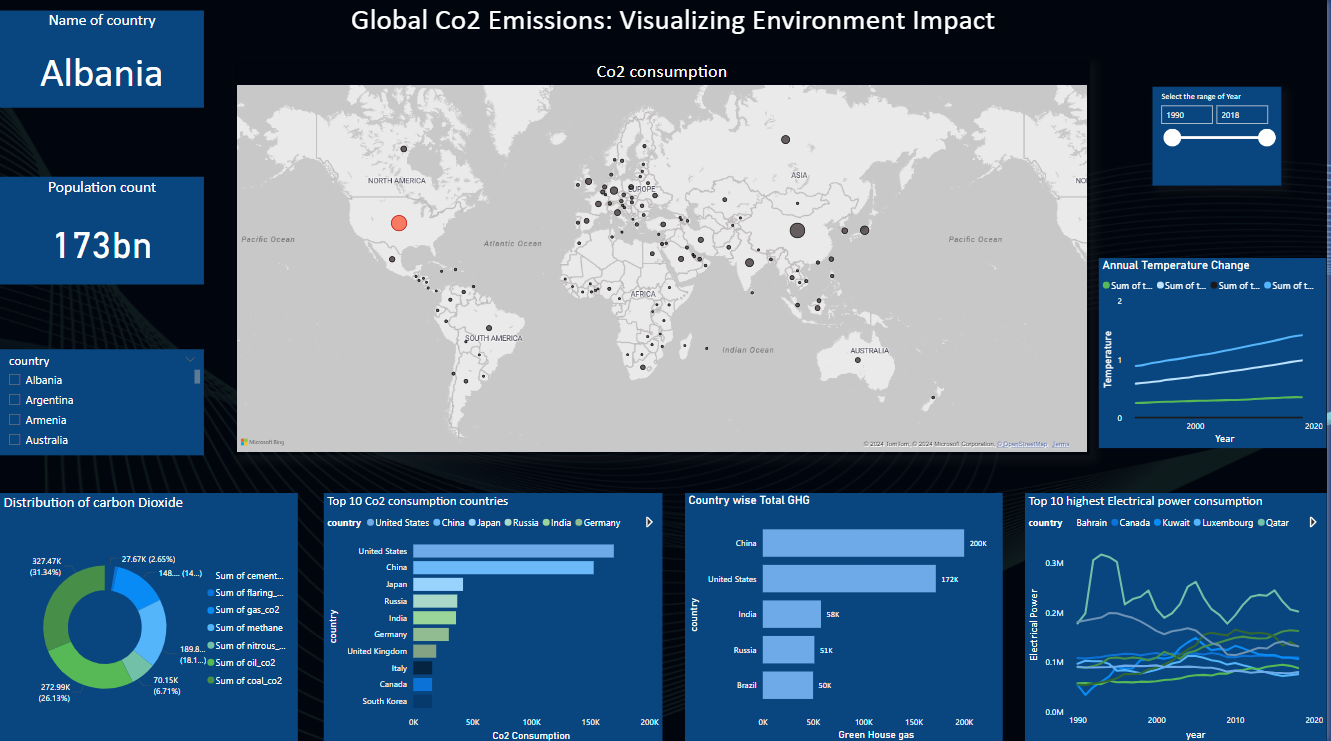

The page's visual inventory and layout, read from the dashboard file:
{"tool":"powerbi","page":{"name":"Page 2","canvas":[1920,1080],"ordinal":0},"visuals":[{"type":"map","title":"Co2 consumption","fields":{"Category":["visualizing_global_co2_data.country"],"Size":["Sum(visualizing_global_co2_data.consumption_co2)"]},"box":[338.4,88.7,1239.6,573.7],"z":0},{"type":"textbox","box":[497.7,0,953.7,88.7],"z":1000},{"type":"barChart","title":"Top 10 Co2 consumption countries","fields":{"Category":["visualizing_global_co2_data.country"],"Y":["Sum(visualizing_global_co2_data.consumption_co2)"],"Series":["visualizing_global_co2_data.country"]},"box":[468.7,716.6,490.4,363.7],"z":2000},{"type":"slicer","fields":{"Values":["visualizing_global_co2_data.year"]},"box":[1668.5,128.5,186.4,143],"z":3000},{"type":"slicer","fields":{"Values":["visualizing_global_co2_data.country"]},"box":[0,508.5,295,153.8],"z":4000},{"type":"card","title":"Name of country","fields":{"Values":["Min(visualizing_global_co2_data.country)"]},"box":[0,18.1,295,141.2],"z":5000},{"type":"card","title":"Population count","fields":{"Values":["Sum(visualizing_global_co2_data.population)"]},"box":[0,258.8,295,155.6],"z":6000},{"type":"donutChart","title":"Distribution of carbon Dioxide","fields":{"Y":["Sum(visualizing_global_co2_data.cement_co2)","Sum(visualizing_global_co2_data.flaring_co2)","Sum(visualizing_global_co2_data.gas_co2)","Sum(visualizing_global_co2_data.methane)","Sum(visualizing_global_co2_data.nitrous_oxide)","Sum(visualizing_global_co2_data.oil_co2)","Sum(visualizing_global_co2_data.coal_co2)"]},"box":[0,717.2,431,363.2],"z":7000},{"type":"clusteredBarChart","title":"Country wise Total GHG","fields":{"Y":["Sum(visualizing_global_co2_data.total_ghg)"],"Category":["visualizing_global_co2_data.country"]},"box":[992.3,717.2,460.4,363.2],"z":8000},{"type":"lineChart","title":"Annual Temperature Change","fields":{"Category":["visualizing_global_co2_data.year"],"Y":["Sum(visualizing_global_co2_data.temperature_change_from_ch4)","Sum(visualizing_global_co2_data.temperature_change_from_co2)","Sum(visualizing_global_co2_data.temperature_change_from_n2o)","Sum(visualizing_global_co2_data.temperature_change_from_ghg)"]},"box":[1590.7,376.4,329.4,275.1],"z":9000},{"type":"lineChart","title":"Top 10 highest Electrical power consumption","fields":{"Category":["visualizing_global_co2_data.year"],"Y":["Sum(visualizing_global_co2_data.energy_per_capita)"],"Series":["visualizing_global_co2_data.country"]},"box":[1483.9,717.2,436.6,363.2],"z":10000}]}

Visuals, with their boxes in screenshot pixels (x1, y1, x2, y2), scaled from the page's 1920x1080 canvas onto the 1331x741 screenshot:
"Co2 consumption" map: (235,61,1094,454)
textbox: (345,0,1006,61)
"Top 10 Co2 consumption countries" barChart: (325,492,665,740)
slicer - visualizing_global_co2_data.year: (1157,88,1286,186)
slicer - visualizing_global_co2_data.country: (0,349,205,454)
"Name of country" card: (0,12,205,109)
"Population count" card: (0,178,205,284)
"Distribution of carbon Dioxide" donutChart: (0,492,299,740)
"Country wise Total GHG" clusteredBarChart: (688,492,1007,740)
"Annual Temperature Change" lineChart: (1103,258,1330,447)
"Top 10 highest Electrical power consumption" lineChart: (1029,492,1330,740)
